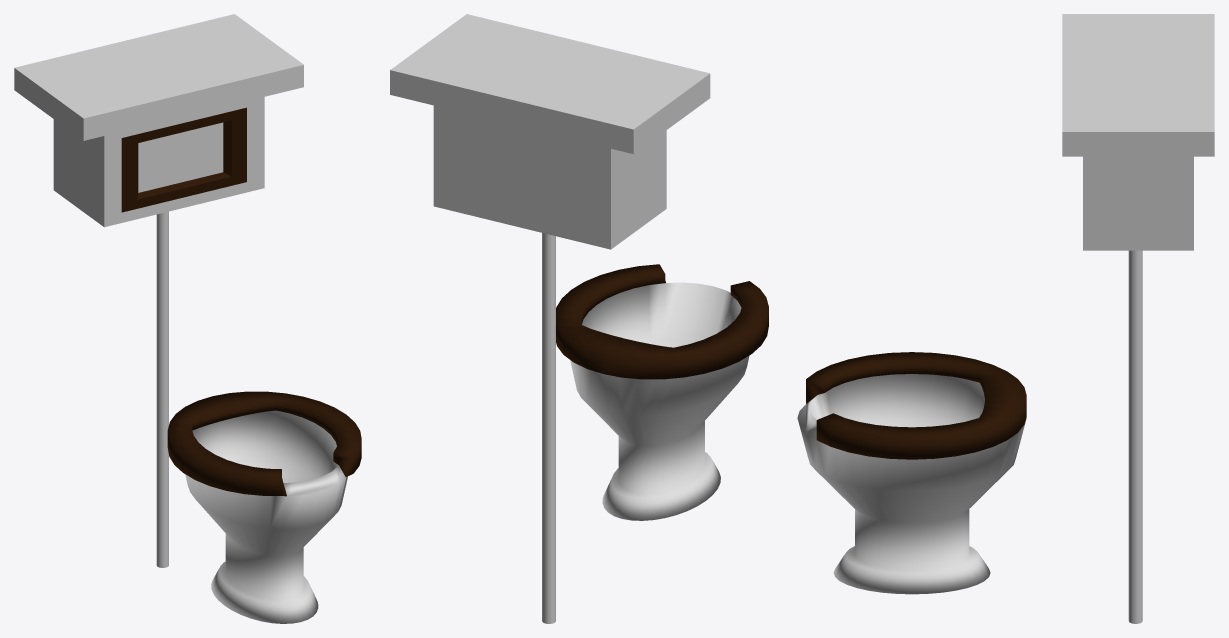
File: Sink.fbx
3 views of the same model, side by side, from view 1: azimuth 30°, elevation 25°; view 2: azimuth 150°, elevation 25°; view 3: azimuth 270°, elevation 25° (orthographic). The views are drawn at different scales.
Parts seen in each view (by area): view 1: Cube; view 2: Cube; view 3: Cube.
Part boxes in pixels (x1=…): Cube: x1=14, y1=14, x2=361, y2=623; Cube: x1=390, y1=14, x2=768, y2=623; Cube: x1=797, y1=14, x2=1214, y2=623.
Size of the model in its own units: 712 by 1538 by 1064.
